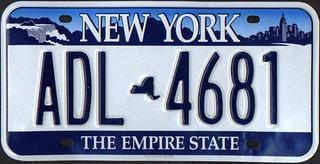placa de veiculo: (2, 2, 306, 155)
